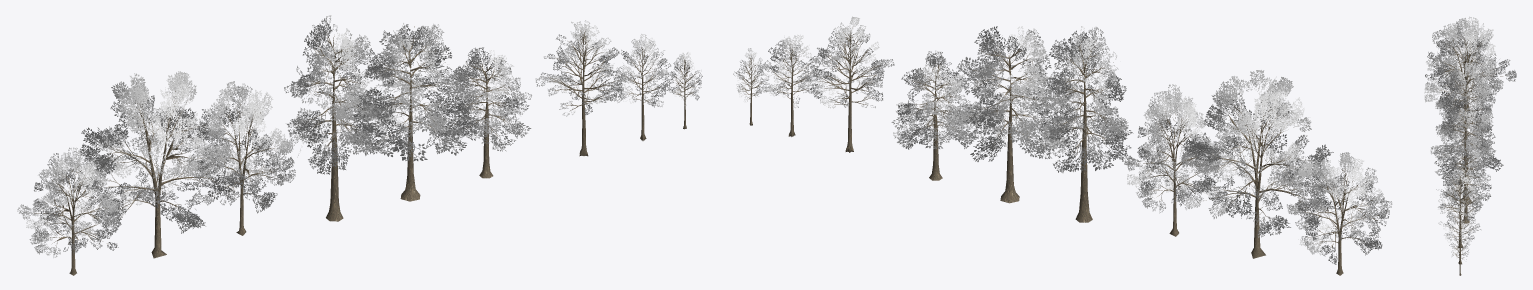
Rendered from Completed_Trees_1A1.fbx.
3 renders of one model, left to right at view 1: azimuth 30°, elevation 25°; view 2: azimuth 150°, elevation 25°; view 3: azimuth 270°, elevation 25°, orthographic. The views are drawn at different scales.
Visible parts, largest first — view 1: Complete_Tree_1A2, Complete_Tree_1B2, Complete_Tree_1B1, Complete_Tree_1A3, Complete_Tree_1A1, Complete_Tree_1B3, Complete_Tree_1C1, Complete_Tree_1C2, Complete_Tree_1C3; view 2: Complete_Tree_1A2, Complete_Tree_1B2, Complete_Tree_1B1, Complete_Tree_1A3, Complete_Tree_1A1, Complete_Tree_1B3, Complete_Tree_1C1, Complete_Tree_1C2, Complete_Tree_1C3; view 3: Complete_Tree_1A2, Complete_Tree_1B2, Complete_Tree_1B1, Complete_Tree_1B3, Complete_Tree_1C1, Complete_Tree_1A3, Complete_Tree_1A1, Complete_Tree_1C2, Complete_Tree_1C3.
Boxes of the visible parts, <box> form: Complete_Tree_1A2: <box>76,71,246,258</box>; Complete_Tree_1B2: <box>352,23,471,201</box>; Complete_Tree_1B1: <box>284,15,383,221</box>; Complete_Tree_1A3: <box>189,81,295,235</box>; Complete_Tree_1A1: <box>17,147,123,275</box>; Complete_Tree_1B3: <box>443,47,531,178</box>; Complete_Tree_1C1: <box>535,20,631,156</box>; Complete_Tree_1C2: <box>609,34,674,140</box>; Complete_Tree_1C3: <box>668,52,702,129</box>; Complete_Tree_1A2: <box>1181,70,1342,258</box>; Complete_Tree_1B2: <box>949,26,1072,203</box>; Complete_Tree_1B1: <box>1037,26,1133,222</box>; Complete_Tree_1A3: <box>1122,84,1221,236</box>; Complete_Tree_1A1: <box>1287,152,1392,275</box>; Complete_Tree_1B3: <box>891,50,976,180</box>; Complete_Tree_1C1: <box>807,16,894,152</box>; Complete_Tree_1C2: <box>758,34,822,136</box>; Complete_Tree_1C3: <box>733,48,769,125</box>; Complete_Tree_1A2: <box>1424,16,1516,128</box>; Complete_Tree_1B2: <box>1430,96,1503,203</box>; Complete_Tree_1B1: <box>1435,64,1495,181</box>; Complete_Tree_1B3: <box>1439,149,1491,223</box>; Complete_Tree_1C1: <box>1436,168,1485,248</box>; Complete_Tree_1A3: <box>1435,62,1494,135</box>; Complete_Tree_1A1: <box>1436,29,1497,93</box>; Complete_Tree_1C2: <box>1438,202,1480,264</box>; Complete_Tree_1C3: <box>1449,230,1469,275</box>.
Bounding box in the file's own units: 7940 × 2295 × 1700.
